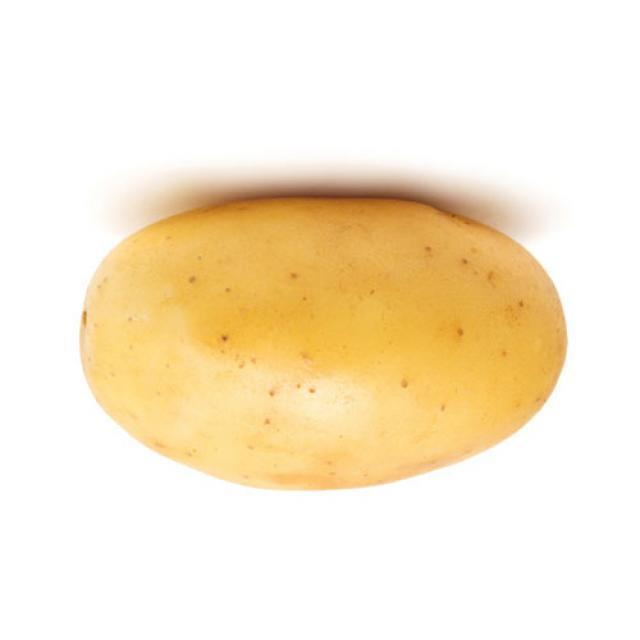potato: (80, 202, 571, 494)
